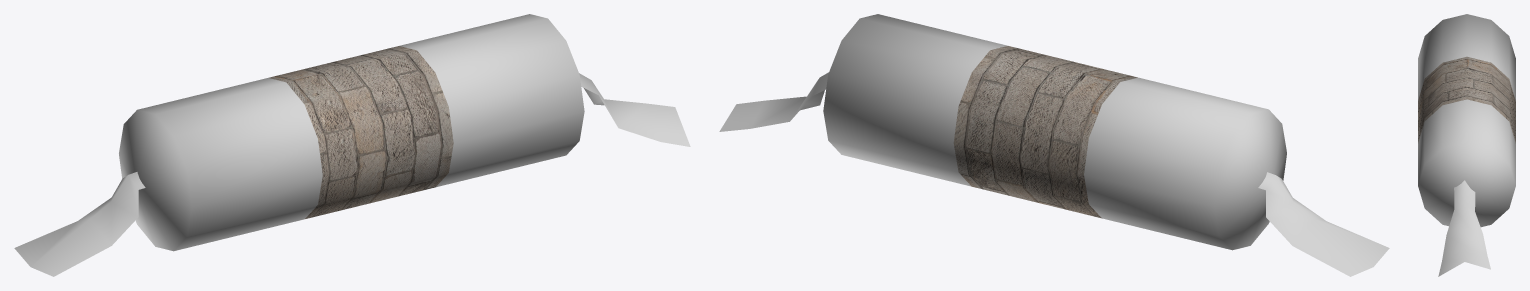
Rendered from Pillow_Cylinder.fbx.
The picture shows the model from 3 angles, left to right: view 1: azimuth 30°, elevation 25°; view 2: azimuth 150°, elevation 25°; view 3: azimuth 270°, elevation 25°; orthographic projection. The views are drawn at different scales.
Parts seen in each view (by area): view 1: Pillow_Cylindrical; view 2: Pillow_Cylindrical; view 3: Pillow_Cylindrical.
Part boxes in pixels (box(x1,y1,x2,y2)): Pillow_Cylindrical: box(14, 14, 690, 276); Pillow_Cylindrical: box(719, 14, 1389, 276); Pillow_Cylindrical: box(1418, 14, 1515, 276).
Bounding box in the file's own units: 246 × 52.12 × 48.44.
